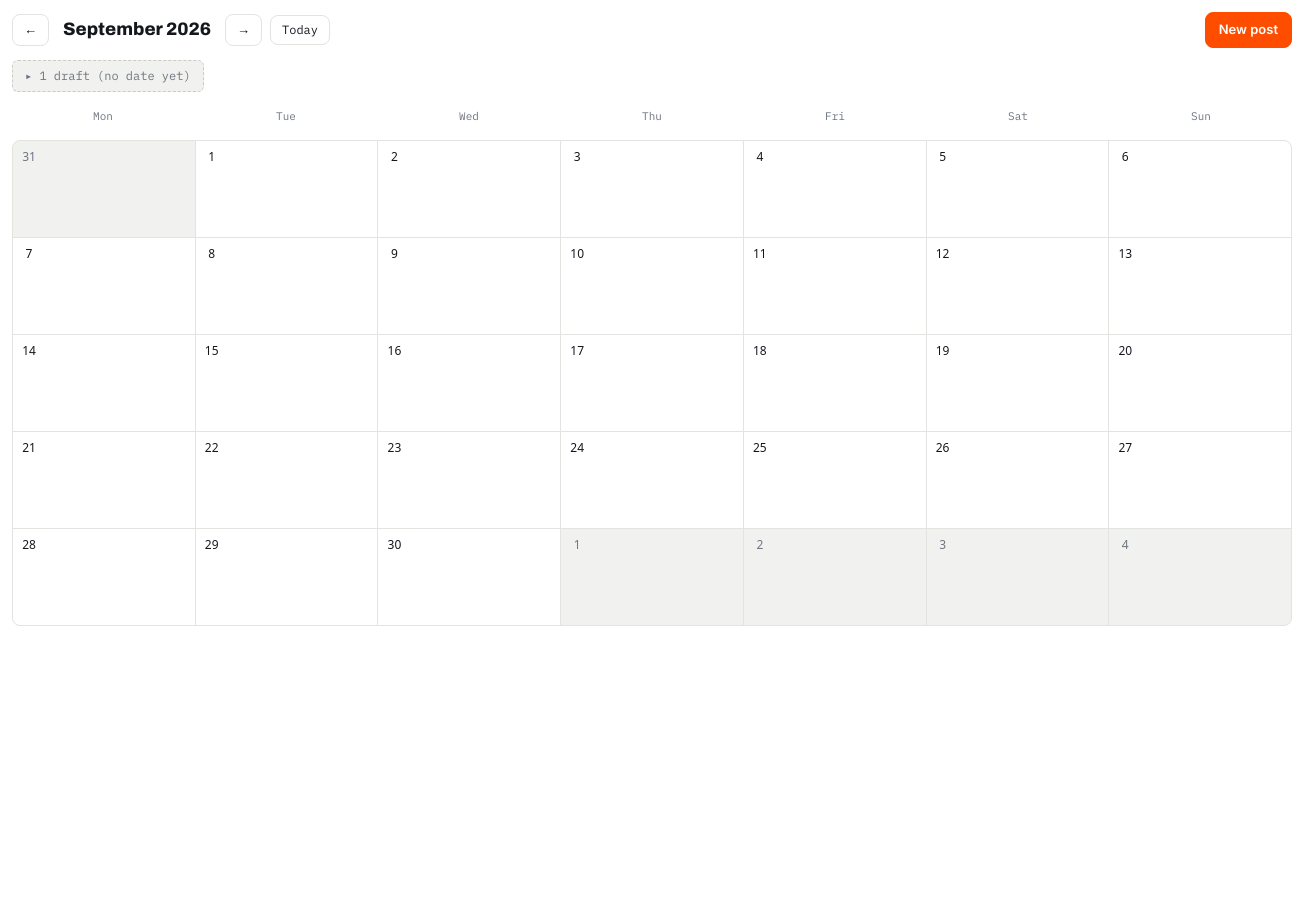
it: CalendarView drafts › shows the N-drafts strip for undated drafts and opens the draft in the drawer
The image size is (1304, 912).
Step 1. Click the button "▸ 1 draft (no date yet)" → (108, 76), box [12, 60, 204, 92]
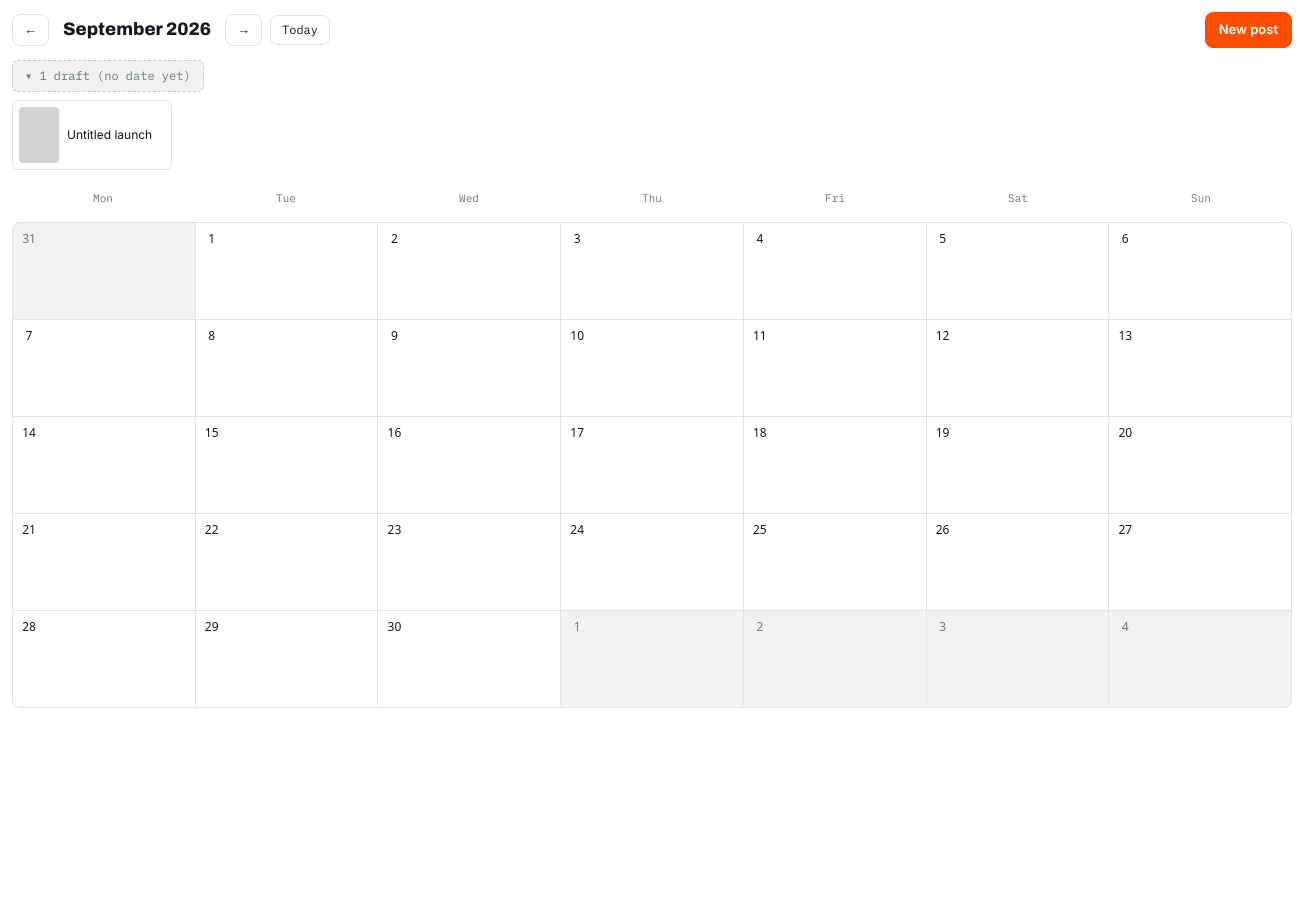
Step 2. Click the button titled "Untitled launch" → (92, 134), box [12, 100, 172, 170]
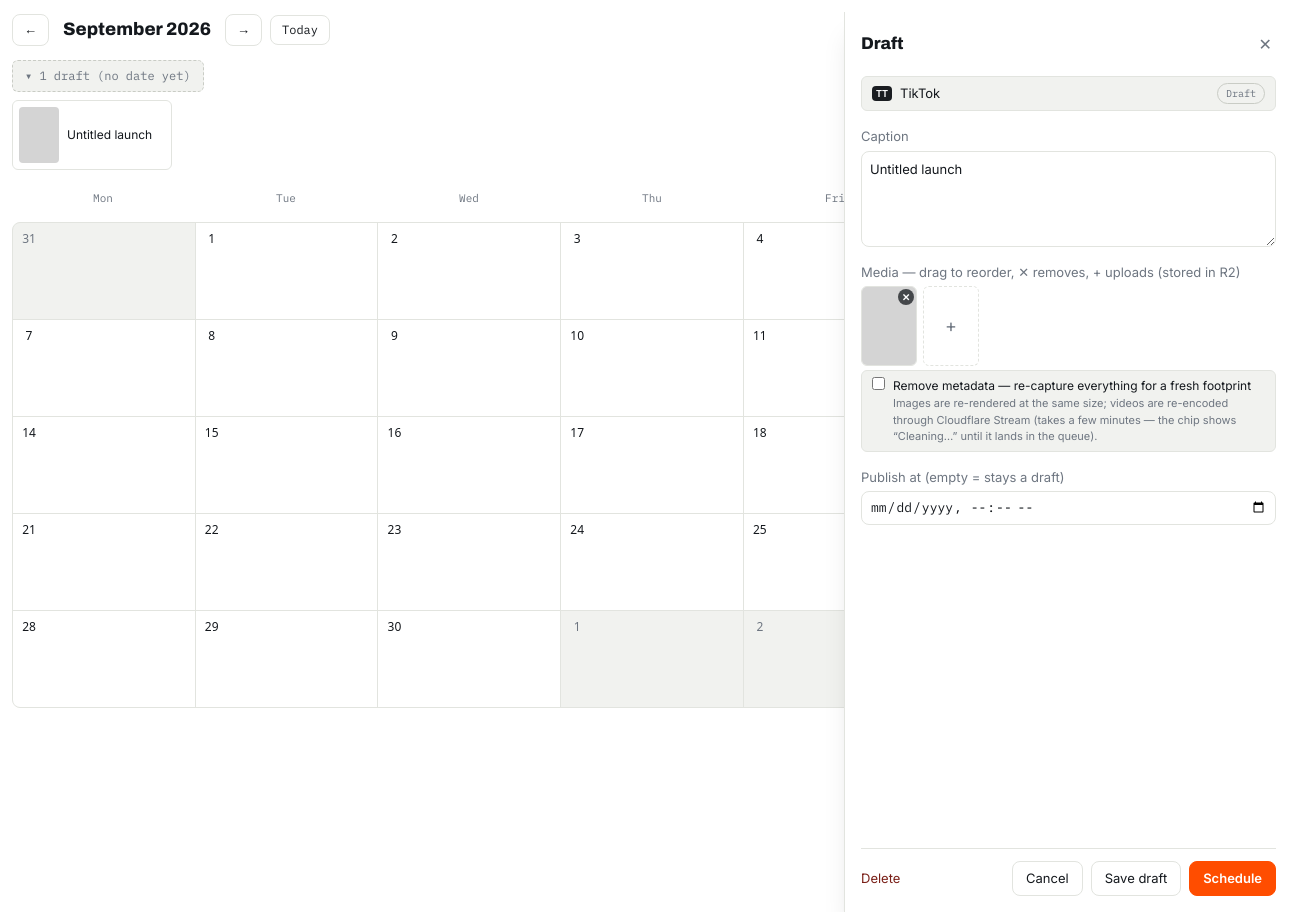
Check: the element with test id "schedule-drawer" is shown, box [844, 12, 1292, 911]
Check: the heading "Draft" is shown, box [861, 31, 904, 57]
Check: the text box with test id "caption-input" holds "Untitled launch", box [861, 150, 1276, 246]
